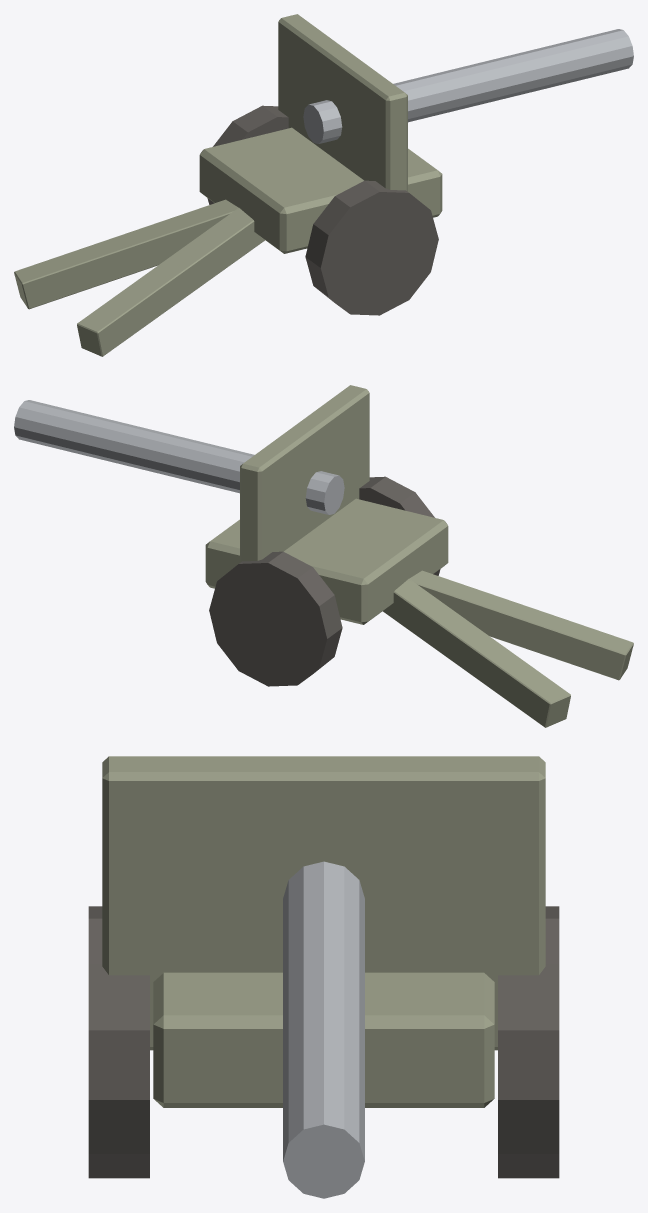
The model's file is artillery_gun.glb.
The picture shows the model from 3 angles, top to bottom: view 1: azimuth 30°, elevation 25°; view 2: azimuth 150°, elevation 25°; view 3: azimuth 270°, elevation 25°; orthographic projection. The views are drawn at different scales.
Parts seen in each view (by area): view 1: Carriage, Gun carriage wheel, Gun shield, Gun barrel, Split trail, Split trail.001, Gun carriage wheel.001; view 2: Carriage, Gun carriage wheel.001, Gun shield, Gun barrel, Split trail.001, Split trail, Gun carriage wheel; view 3: Gun shield, Carriage, Gun barrel, Gun carriage wheel, Gun carriage wheel.001.
Part boxes in pixels (bbox=[...]): Carriage: bbox=[199, 127, 442, 253]; Gun carriage wheel: bbox=[305, 180, 438, 315]; Gun shield: bbox=[278, 14, 407, 191]; Gun barrel: bbox=[303, 29, 633, 143]; Split trail: bbox=[77, 208, 264, 356]; Split trail.001: bbox=[14, 199, 240, 309]; Gun carriage wheel.001: bbox=[207, 105, 288, 204]; Carriage: bbox=[205, 498, 448, 624]; Gun carriage wheel.001: bbox=[209, 551, 342, 686]; Gun shield: bbox=[240, 385, 369, 562]; Gun barrel: bbox=[14, 400, 344, 514]; Split trail.001: bbox=[383, 579, 570, 727]; Split trail: bbox=[407, 570, 633, 680]; Gun carriage wheel: bbox=[359, 476, 440, 575]; Gun shield: bbox=[102, 756, 545, 1050]; Carriage: bbox=[153, 972, 494, 1107]; Gun barrel: bbox=[283, 861, 364, 1198]; Gun carriage wheel: bbox=[88, 906, 149, 1178]; Gun carriage wheel.001: bbox=[498, 906, 559, 1178].
Size of the model in its own units: 0.389 by 0.137 by 0.138.
